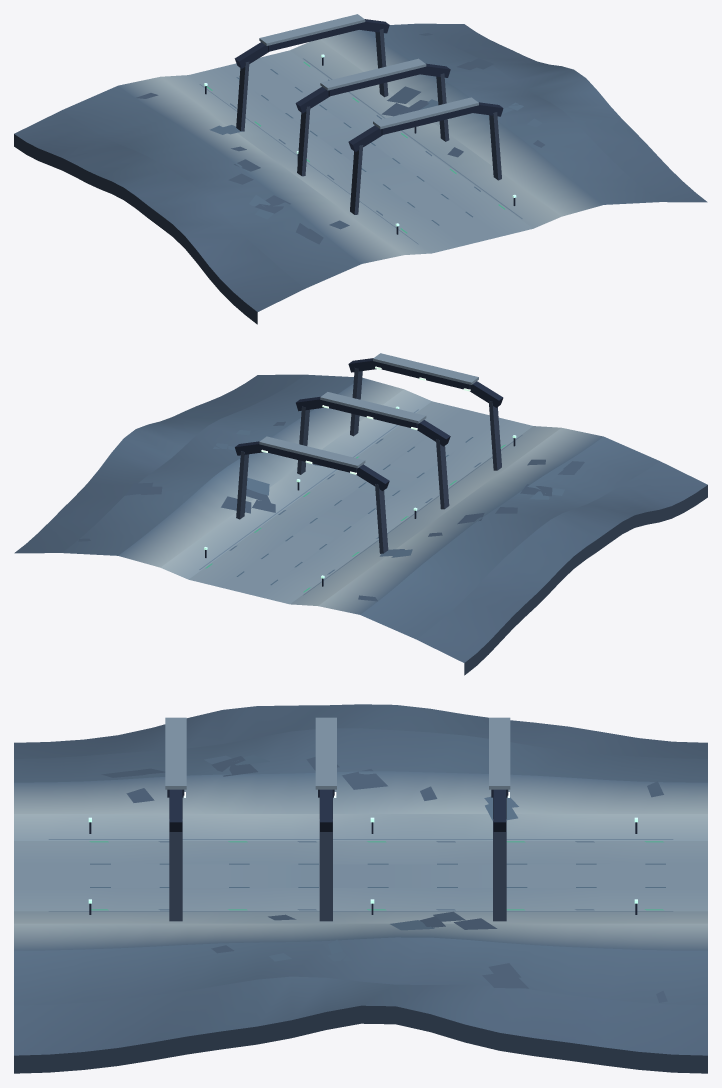
Rendered from 05-ice_tunnel.glb.
3 views of the same model, one above another, from view 1: azimuth 30°, elevation 25°; view 2: azimuth 150°, elevation 25°; view 3: azimuth 270°, elevation 25° (orthographic). The views are drawn at different scales.
Parts seen in each view (by area): view 1: ice_tunnel; view 2: ice_tunnel; view 3: ice_tunnel.
Boxes of the visible parts, <box> form: ice_tunnel: <box>14,14,707,324</box>; ice_tunnel: <box>14,353,707,675</box>; ice_tunnel: <box>14,704,707,1073</box>.
Bounding box in the file's own units: 32 × 7.89 × 30.
